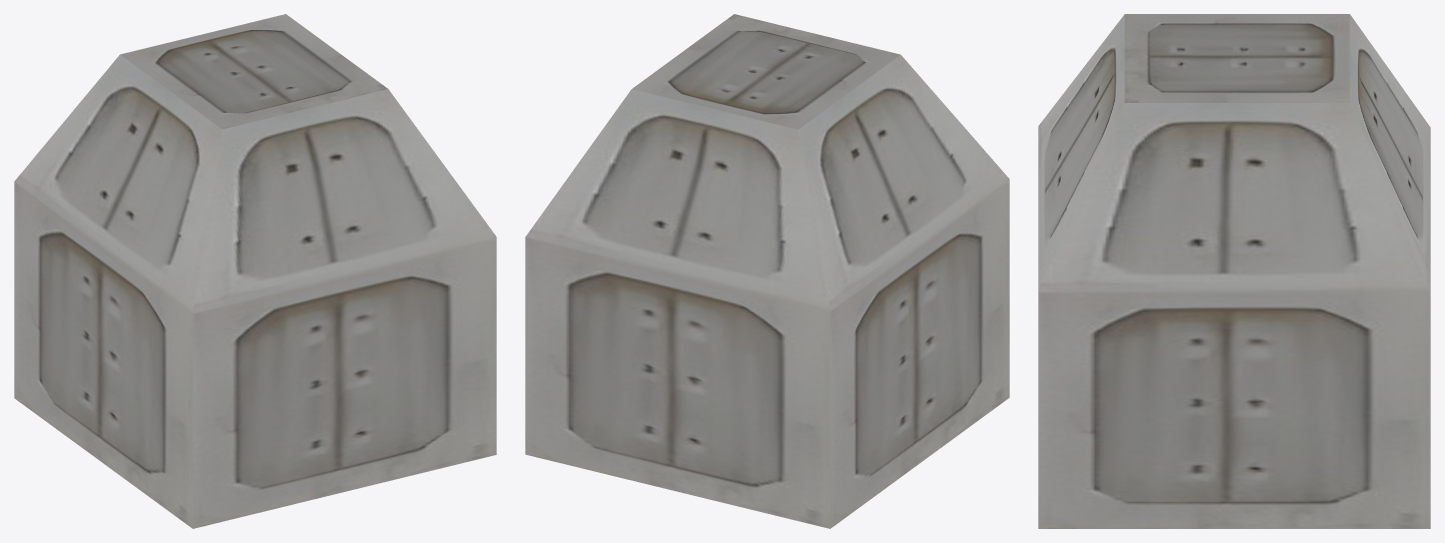
File: l_lightpost_hdtex.glb
The picture shows the model from 3 angles, left to right: view 1: azimuth 30°, elevation 25°; view 2: azimuth 150°, elevation 25°; view 3: azimuth 270°, elevation 25°; orthographic projection. The views are drawn at different scales.
Visible parts, largest first — view 1: L_LightWall; view 2: L_LightWall; view 3: L_LightWall.
Part boxes in pixels (x1=…): L_LightWall: x1=14, y1=14, x2=496, y2=528; L_LightWall: x1=525, y1=14, x2=1009, y2=528; L_LightWall: x1=1038, y1=14, x2=1430, y2=528.
Bounding box in the file's own units: 4.16 × 4.63 × 4.24.
Materials: 1 (1 with a texture image).
